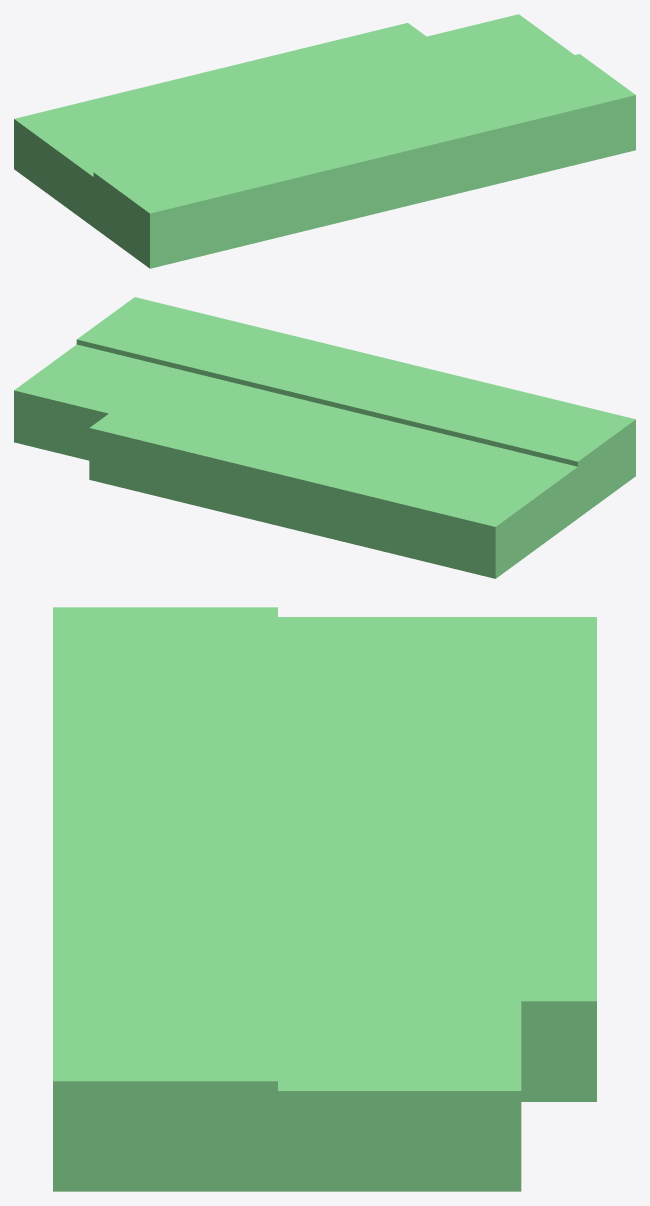
Rendered from FurnitureShowRoom.FBX.
The picture shows the model from 3 angles, top to bottom: view 1: azimuth 30°, elevation 25°; view 2: azimuth 150°, elevation 25°; view 3: azimuth 270°, elevation 25°; orthographic projection. The views are drawn at different scales.
Visible parts, largest first — view 1: Corridor, Rooms; view 2: Rooms, Corridor; view 3: Rooms, Corridor.
Boxes of the visible parts, left/top/right/bottom form: Corridor: left=93, top=54, right=635, bottom=268; Rooms: left=14, top=14, right=574, bottom=227; Rooms: left=14, top=344, right=577, bottom=578; Corridor: left=76, top=297, right=635, bottom=518; Rooms: left=278, top=617, right=596, bottom=1191; Corridor: left=53, top=607, right=277, bottom=1191.
Size of the model in its own units: 4089 by 444 by 1983.
